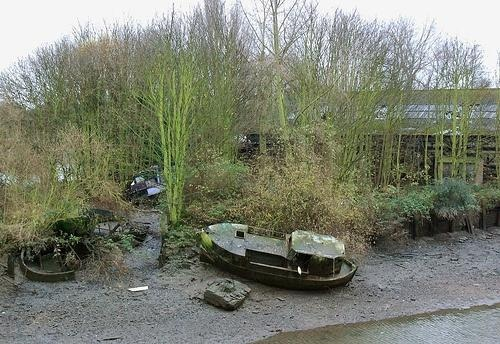boat: (198, 221, 360, 292)
